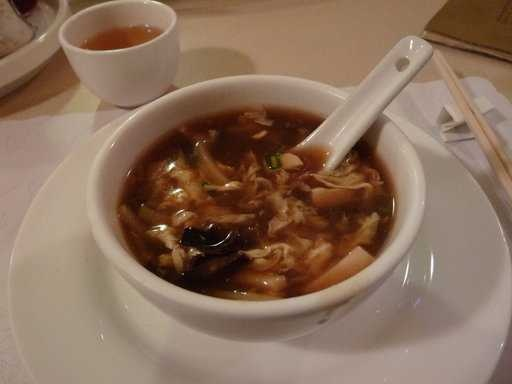soup: (118, 84, 391, 311)
